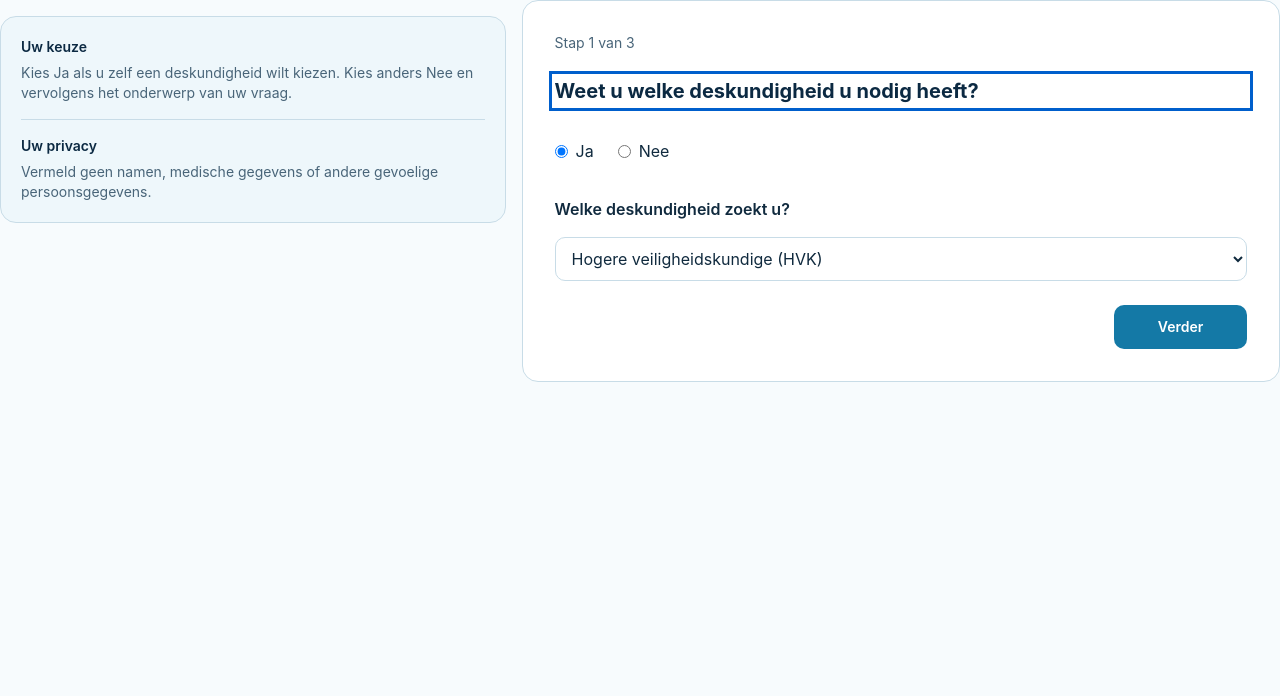
Test: gedeelde opdrachtflow › hervat een bestaand concept via hetzelfde formulier en slaat op zonder publicatie
The width and height of the screenshot is (1280, 696).
Click the button "Verder": (1181, 327) [1114,305,1247,349]
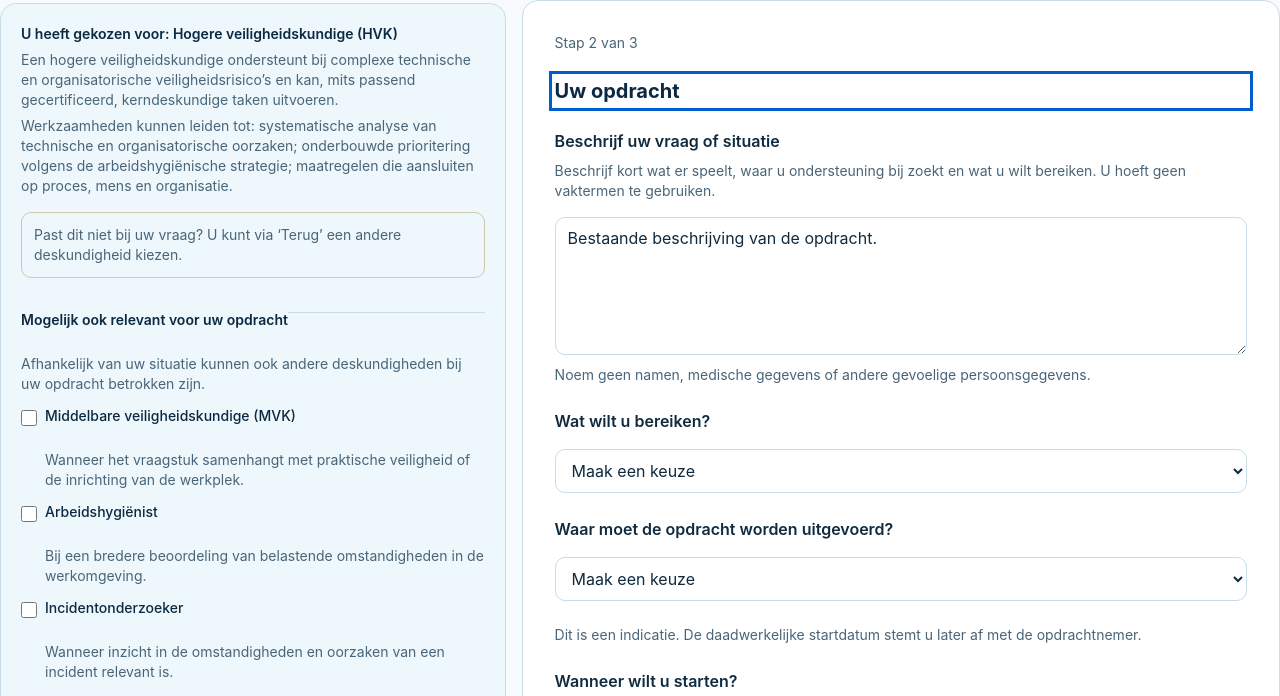
expect the text box labelled "Beschrijf uw vraag of situatie" holds "Bestaande beschrijving van de opdracht.": met, box [555,217,1247,355]
